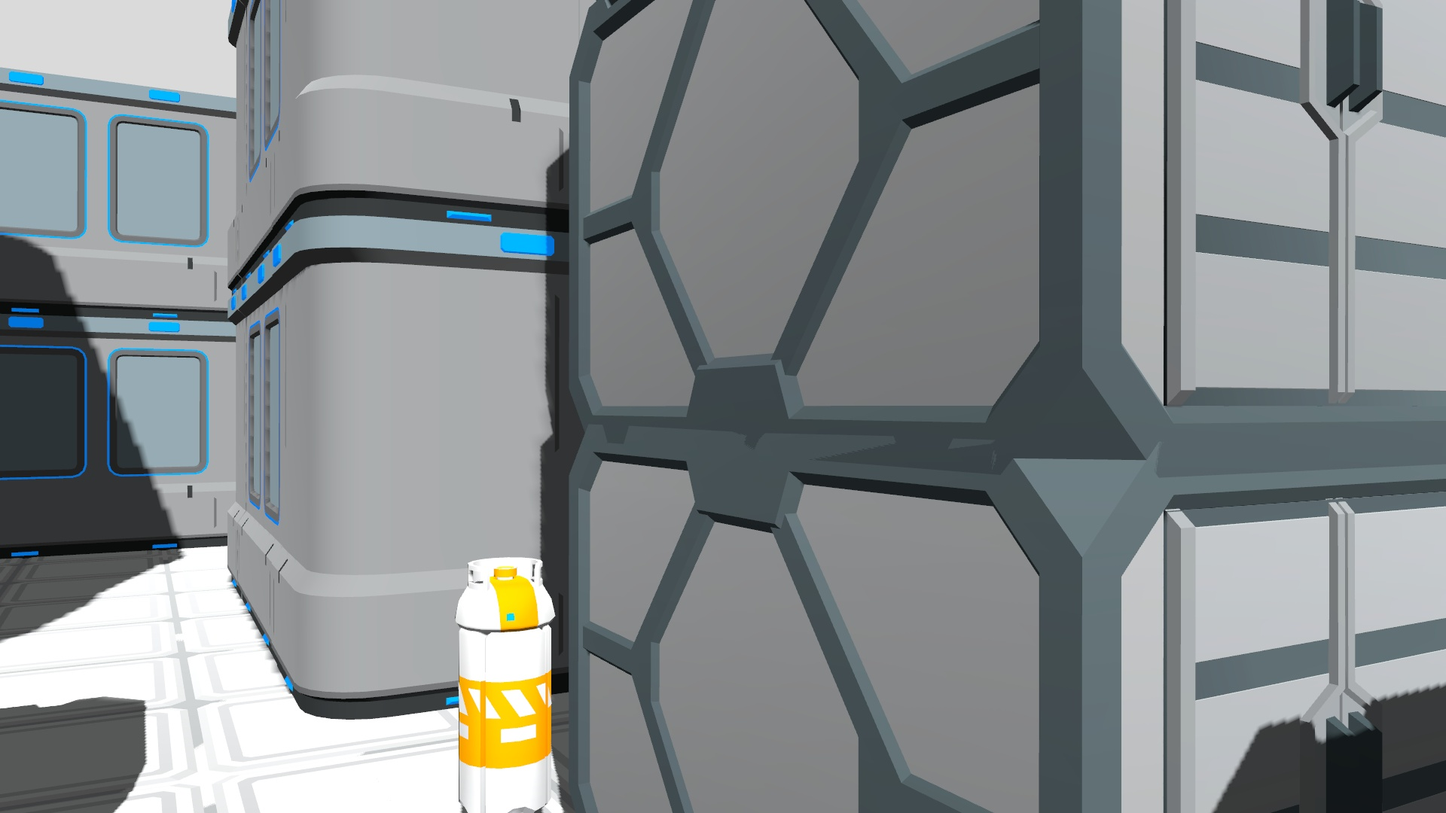yellow_barrel: (454, 551, 554, 813)
